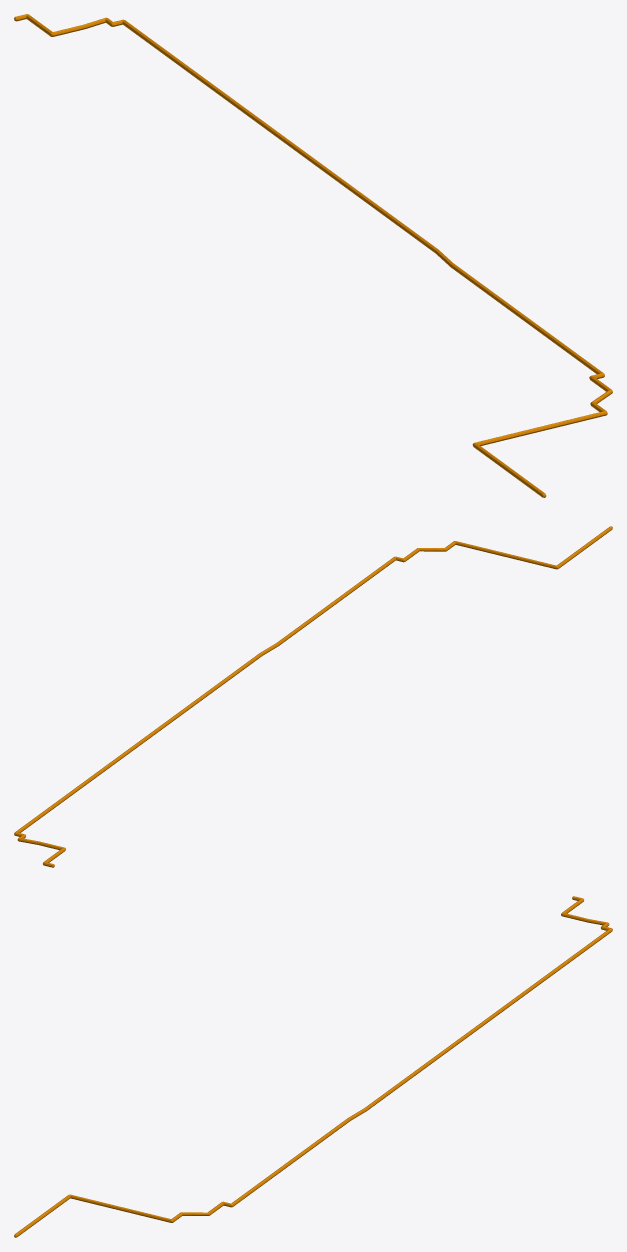
3 renders of one model, top to bottom at view 1: azimuth 30°, elevation 25°; view 2: azimuth 150°, elevation 25°; view 3: azimuth 330°, elevation 25°, orthographic. The views are drawn at different scales.
Bounding box in the file's own units: 802 × 20 × 4966.
